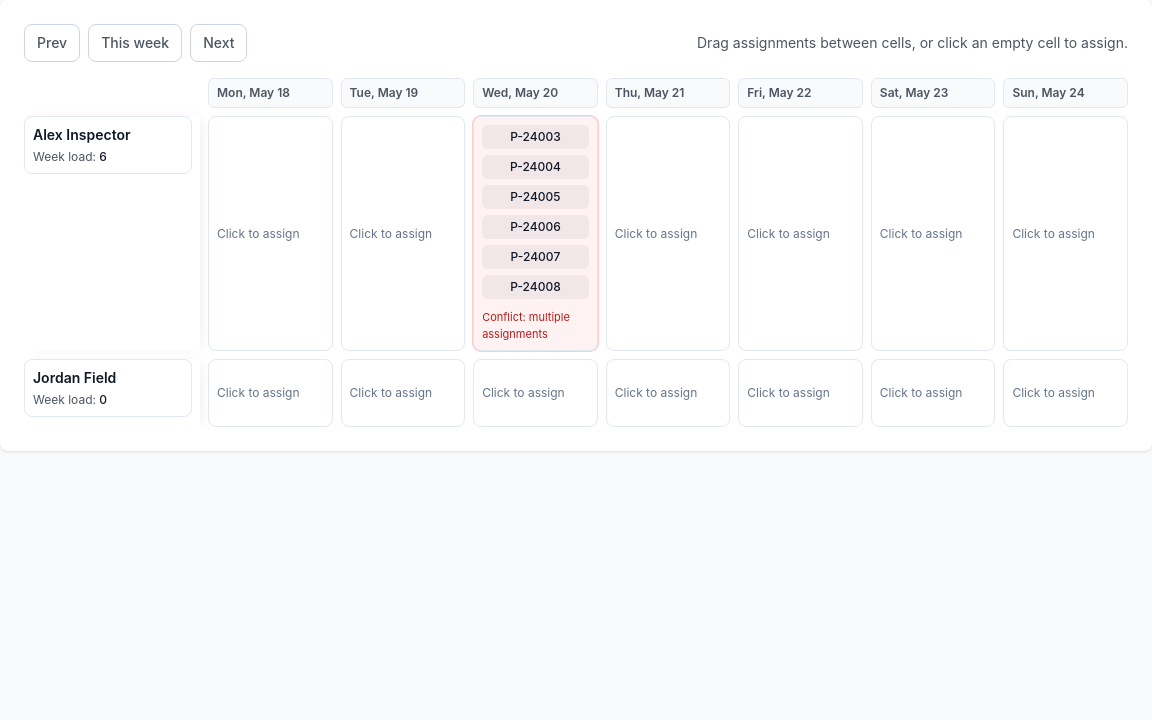
Test case: AssignmentGrid › shows over-capacity note when selected cell is at daily maximum
Click the button with test id "assignment-cell-insp-alex-2026-05-20": (535, 234) [473,116,598,351]
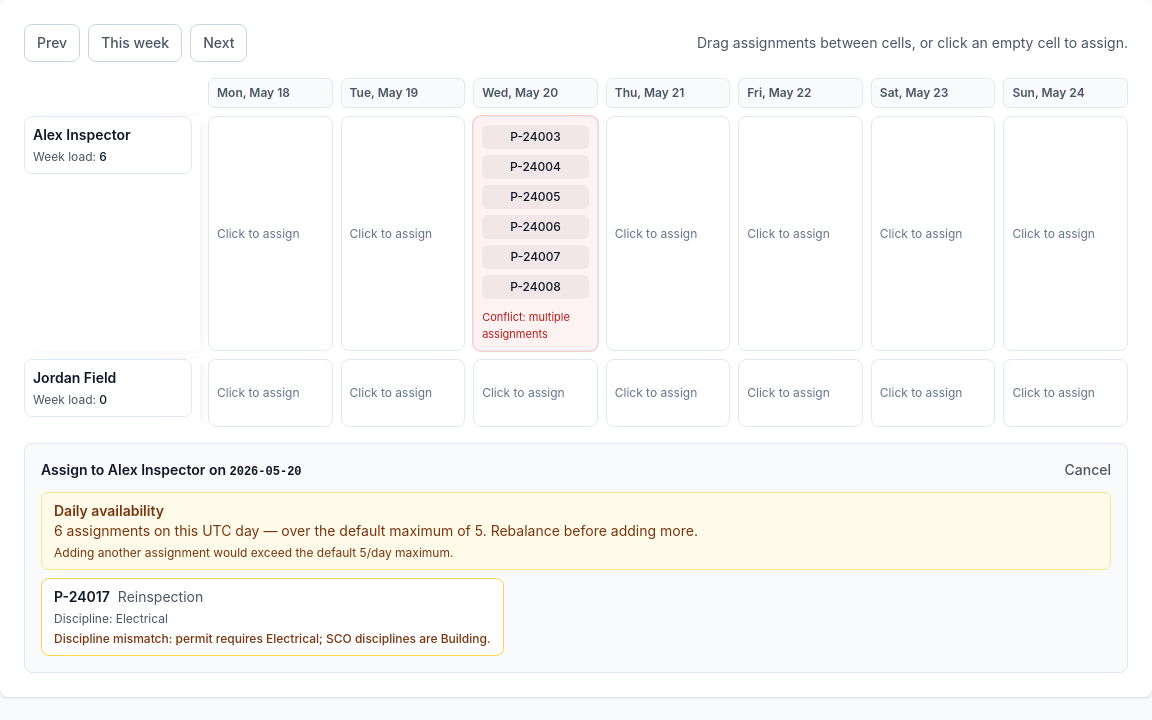
expect the text with test id "assignment-grid-over-capacity-note" is shown: met, box [54,545,453,560]
